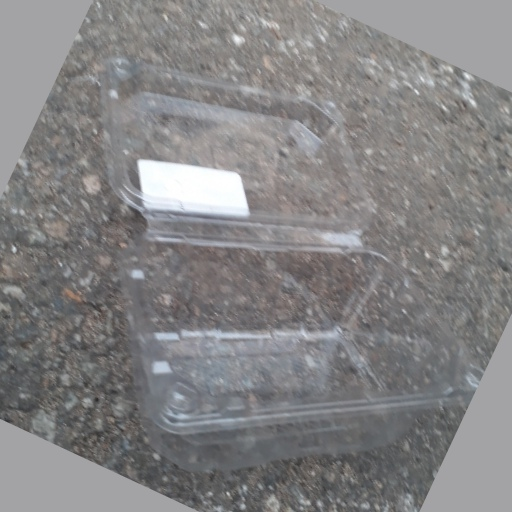Plastic_4: (99, 55, 474, 457)
